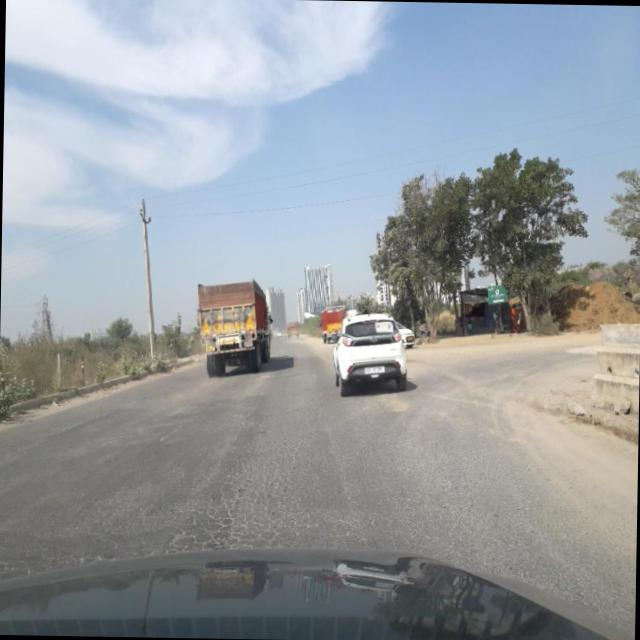crack: (6, 417, 528, 568)
